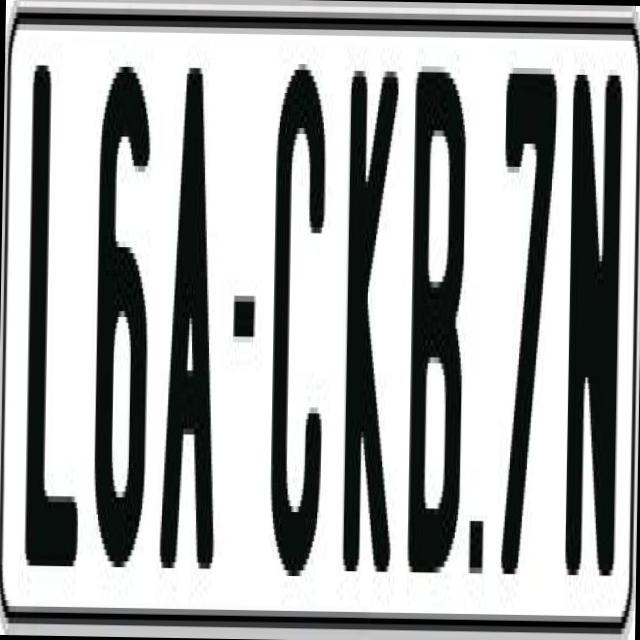6: (92, 48, 158, 573)
7: (493, 73, 555, 580)
A: (159, 62, 225, 574)
B: (406, 60, 472, 567)
C: (268, 58, 328, 564)
K: (342, 65, 398, 590)
L: (24, 59, 86, 566)
N: (560, 56, 620, 564)
